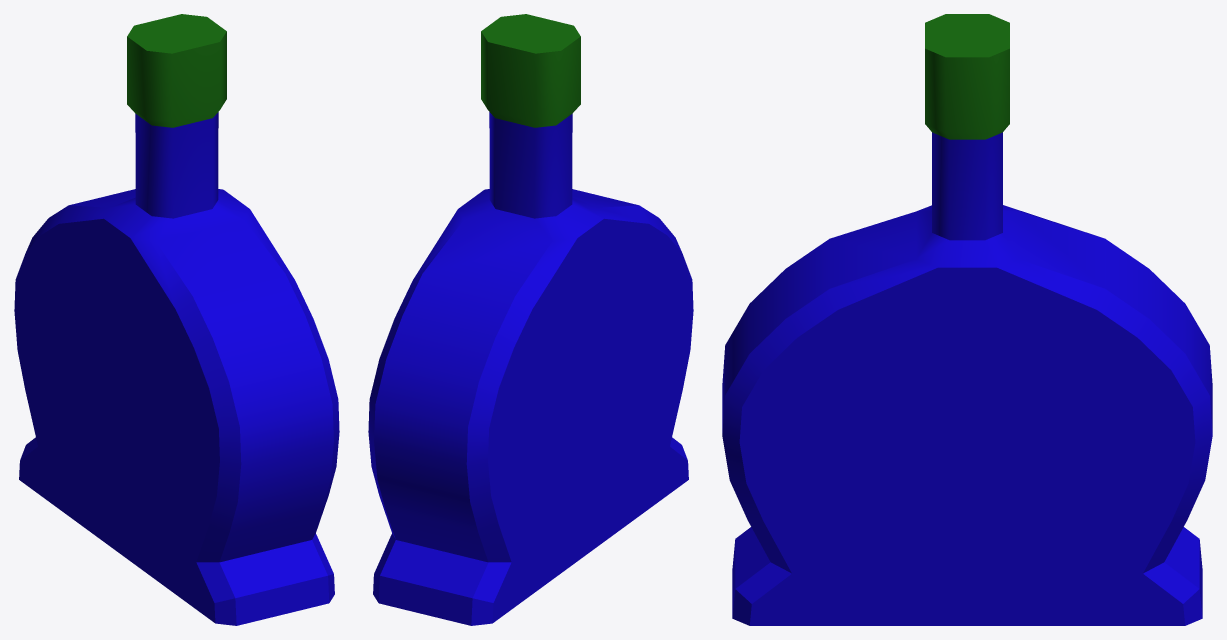
3 renders of one model, left to right at view 1: azimuth 30°, elevation 25°; view 2: azimuth 150°, elevation 25°; view 3: azimuth 270°, elevation 25°, orthographic. The views are drawn at different scales.
Visible parts, largest first — view 1: B11; view 2: B11; view 3: B11.
Part boxes in pixels (box(x1,y1,x2,y2)): B11: box(14, 14, 339, 625); B11: box(368, 14, 693, 625); B11: box(722, 14, 1212, 625).
Size of the model in its own units: 25.36 by 102 by 81.26.
